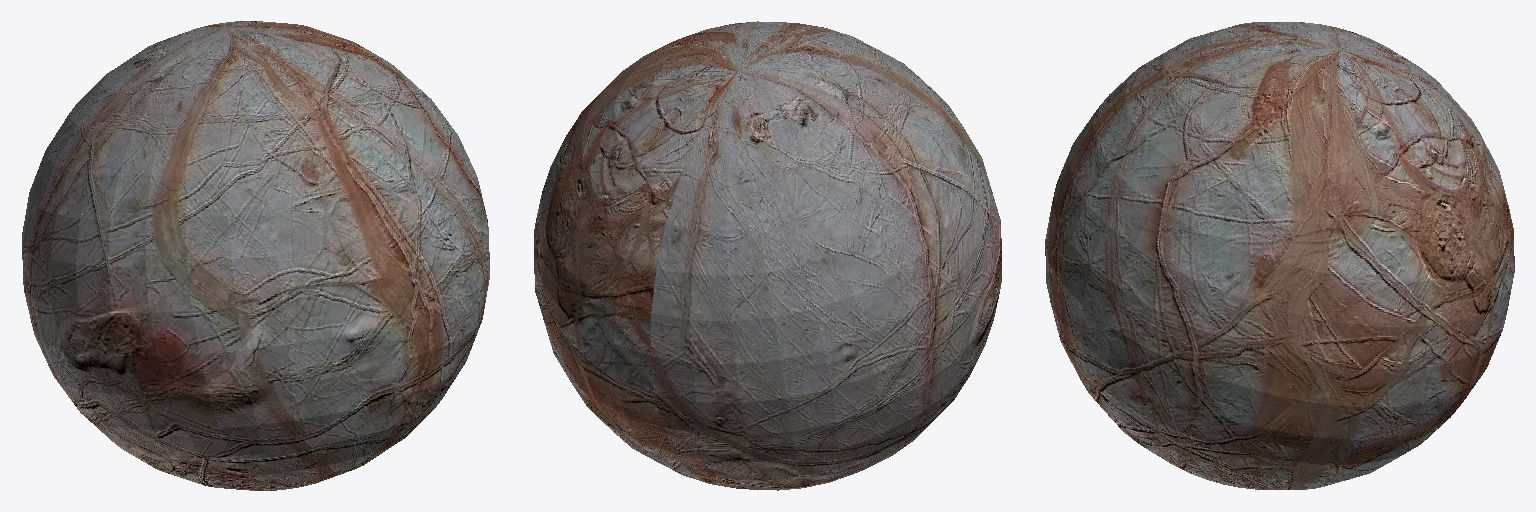
The picture shows the model from 3 angles: view 1: azimuth 30°, elevation 25°; view 2: azimuth 150°, elevation 25°; view 3: azimuth 270°, elevation 25°; orthographic projection.
Visible parts, largest first — view 1: Europa_Mesh.001; view 2: Europa_Mesh.001; view 3: Europa_Mesh.001.
Part boxes in pixels (left/top/right/bottom): Europa_Mesh.001: left=22, top=21, right=489, bottom=490; Europa_Mesh.001: left=534, top=21, right=1001, bottom=490; Europa_Mesh.001: left=1045, top=22, right=1514, bottom=489.
Bounding box in the file's own units: 7.74 × 7.72 × 7.72.
1 materials, 1 textured.